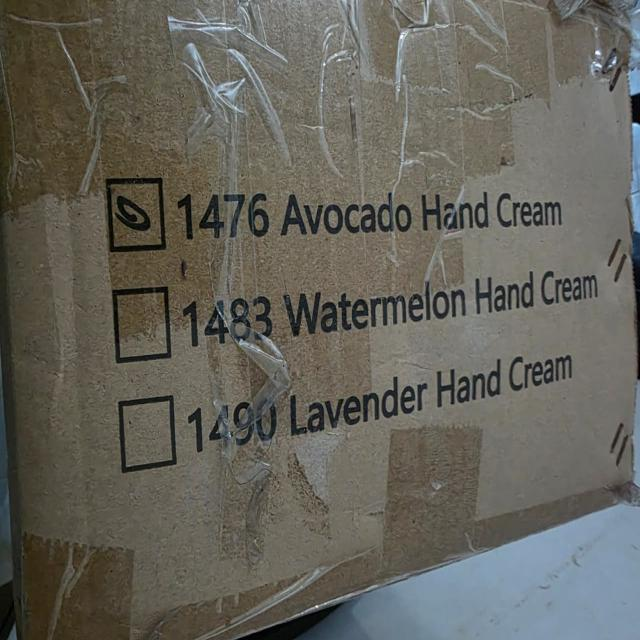carton_box: (0, 0, 640, 640)
package_damage: (553, 0, 639, 99)
